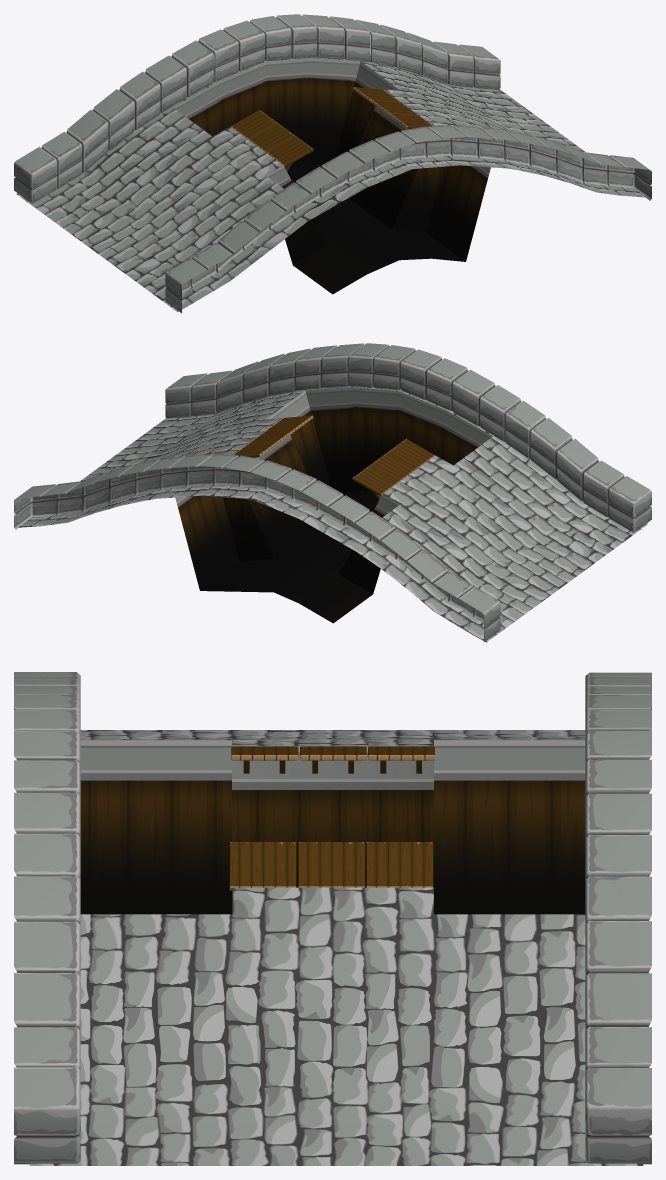
The model's file is mod_med_her_part_a_10.fbx.
3 views of the same model, one above another, from view 1: azimuth 30°, elevation 25°; view 2: azimuth 150°, elevation 25°; view 3: azimuth 270°, elevation 25° (orthographic). The views are drawn at different scales.
Parts seen in each view (by area): view 1: mod_med_her_part_a_10; view 2: mod_med_her_part_a_10; view 3: mod_med_her_part_a_10.
Boxes of the visible parts, <box> form: mod_med_her_part_a_10: <box>14,14,651,313</box>; mod_med_her_part_a_10: <box>14,343,651,642</box>; mod_med_her_part_a_10: <box>14,672,651,1165</box>.
Bounding box in the file's own units: 180 × 54.21 × 111.
